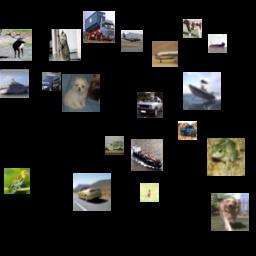airplane: (152, 41, 178, 67), (121, 30, 143, 52)
automobile: (73, 173, 111, 211), (137, 92, 163, 118), (42, 72, 61, 91)
bird: (4, 168, 30, 194), (140, 183, 159, 202)
cat: (49, 29, 81, 61)
deer: (0, 29, 32, 61)
dog: (62, 74, 100, 112), (211, 193, 249, 231)
frog: (207, 138, 245, 176)
ship: (183, 72, 221, 110), (131, 139, 163, 171), (0, 69, 29, 98), (208, 34, 227, 53)
truck: (83, 11, 115, 43), (178, 121, 197, 140), (105, 136, 124, 155)
